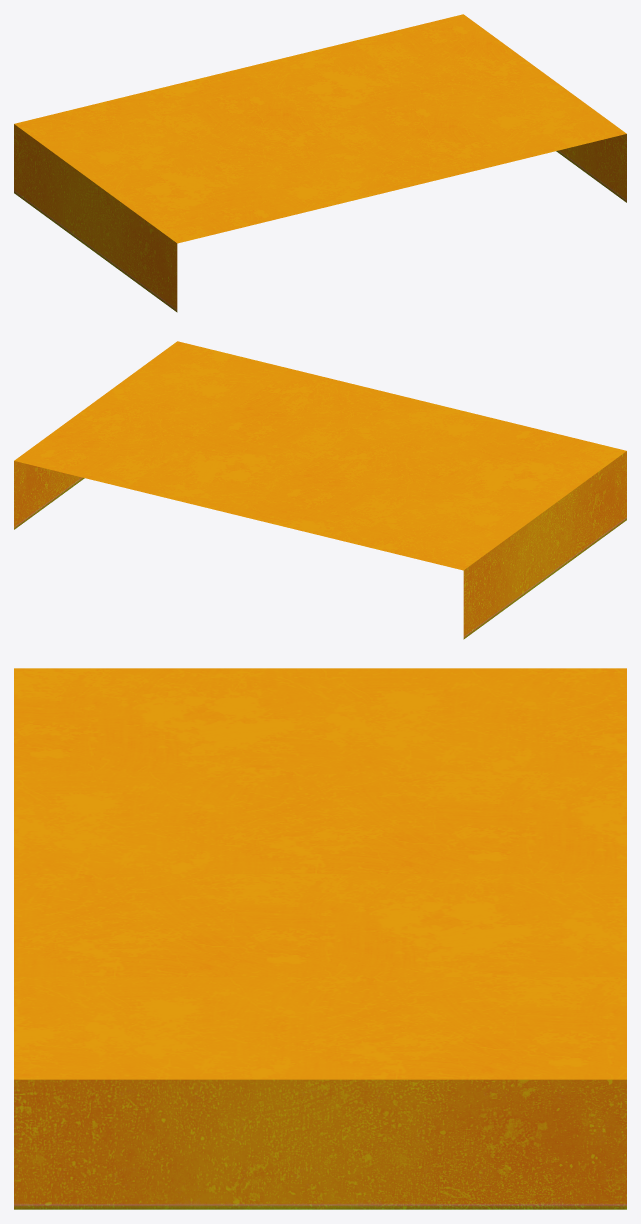
Rendered from FacilityPlatform_02_SM_Low.fbx.
3 views of the same model, one above another, from view 1: azimuth 30°, elevation 25°; view 2: azimuth 150°, elevation 25°; view 3: azimuth 270°, elevation 25° (orthographic). The views are drawn at different scales.
Parts seen in each view (by area): view 1: facility_platform_02_geo; view 2: facility_platform_02_geo; view 3: facility_platform_02_geo.
Boxes of the visible parts, x1,y1,x2,y2 form: facility_platform_02_geo: [14, 14, 626, 312]; facility_platform_02_geo: [14, 341, 626, 639]; facility_platform_02_geo: [14, 668, 626, 1209].
Size of the model in its own units: 796 by 117 by 501.
Materials: 2 (2 with a texture image).
